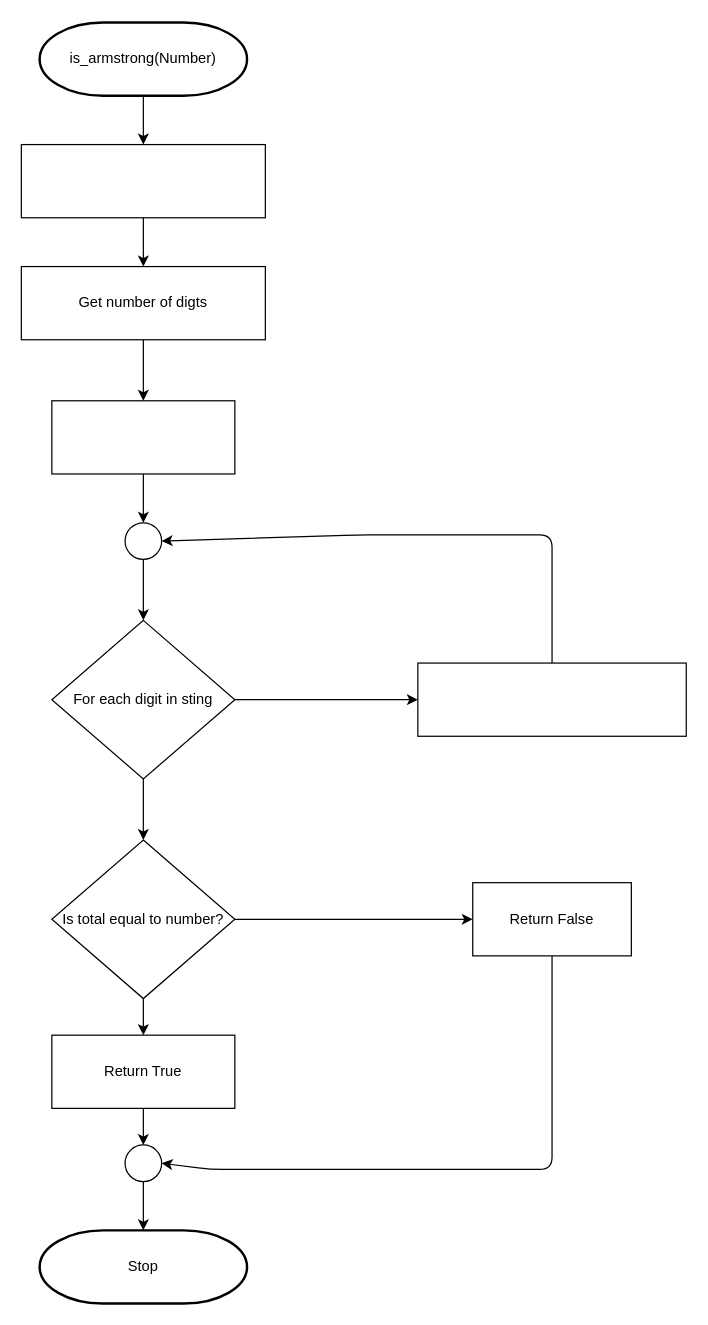
Some shapes in this 708 by 1325 pixel diagram are drawn without their labels. The centre of each missing label's shape, as x and y in pixels:
"Add digi num_digits to total" belongs at (x=551, y=699).
"Convert number to sting" belongs at (x=142, y=180).
"Initialize total to 0" belongs at (x=143, y=437).
